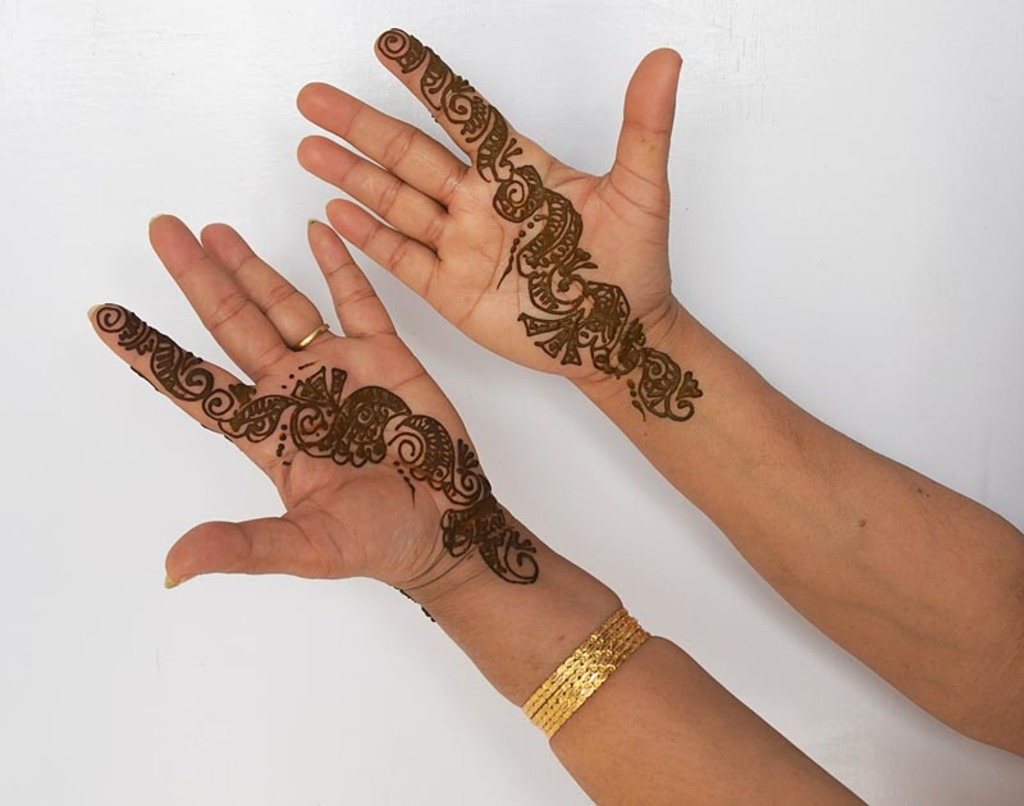Human_hand: (88, 210, 490, 594), (299, 27, 681, 376)
